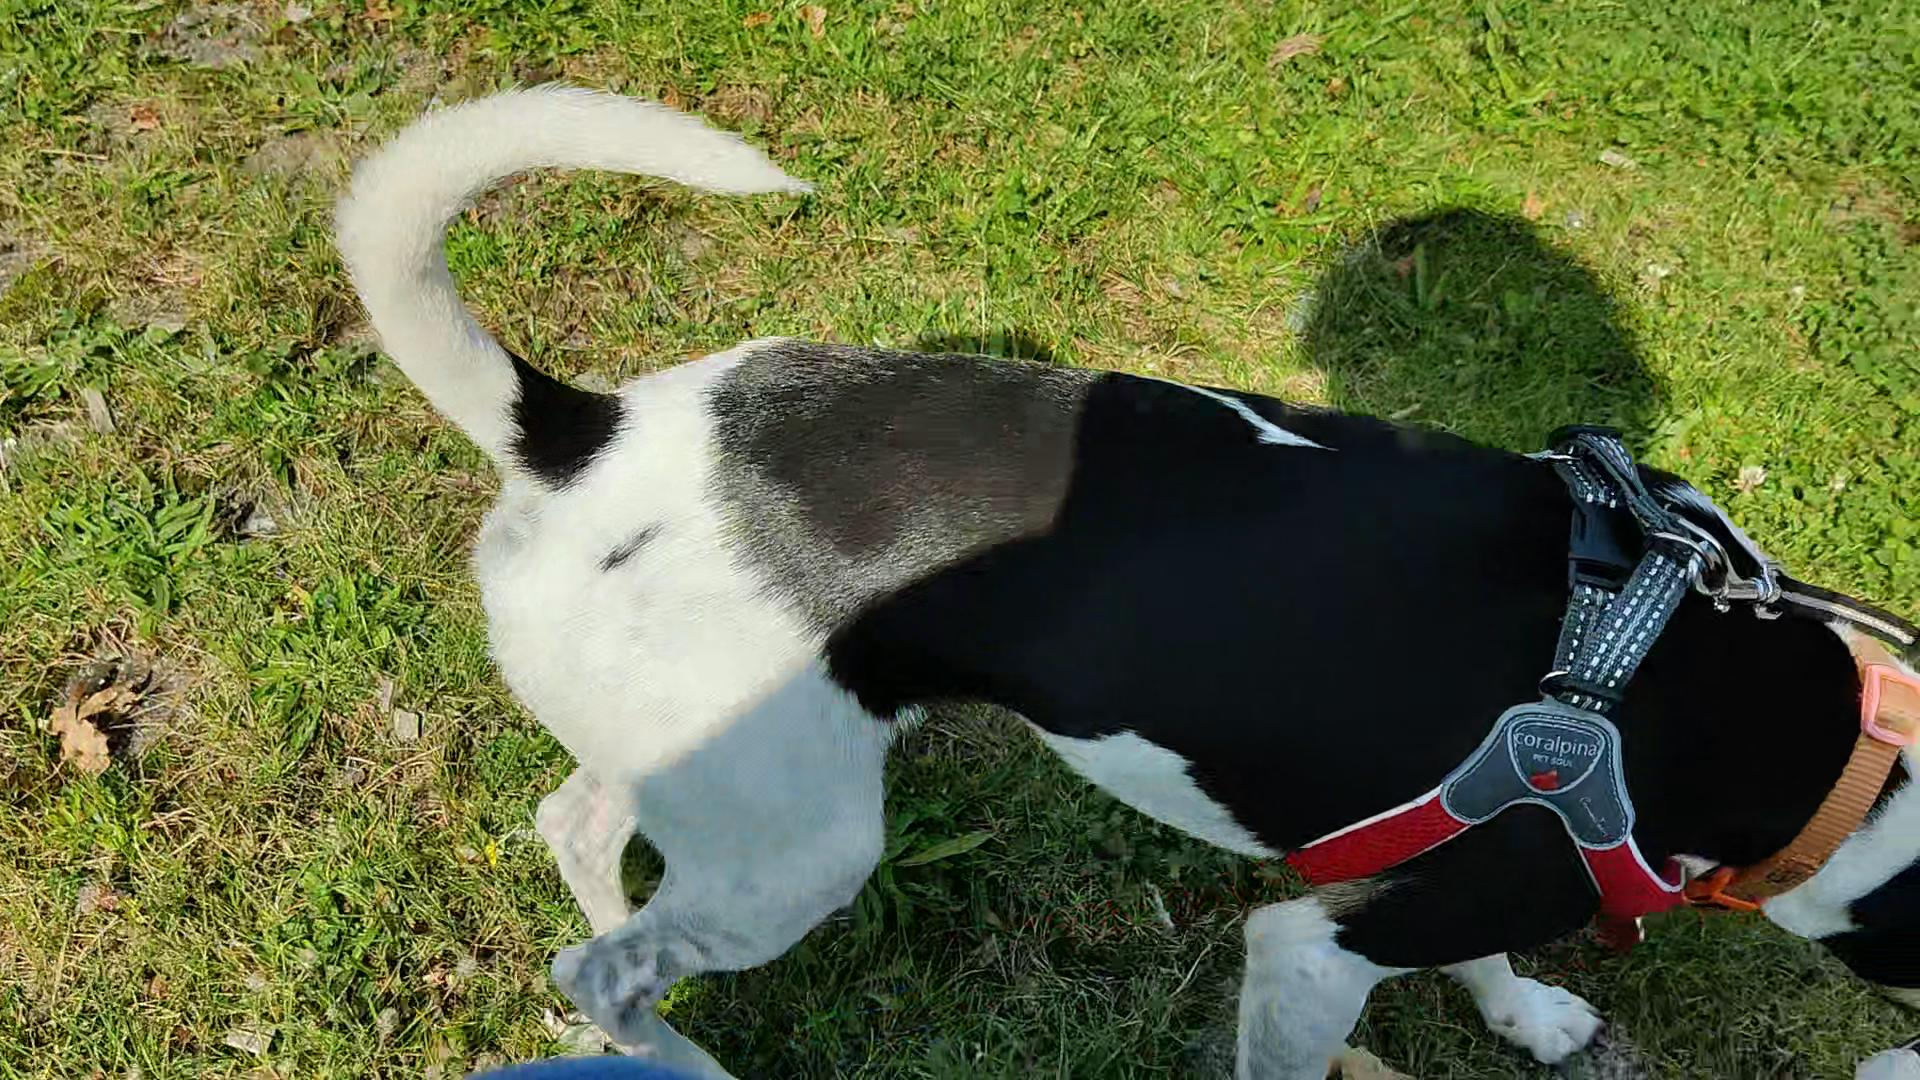Dog: (313, 44, 1919, 1079)
